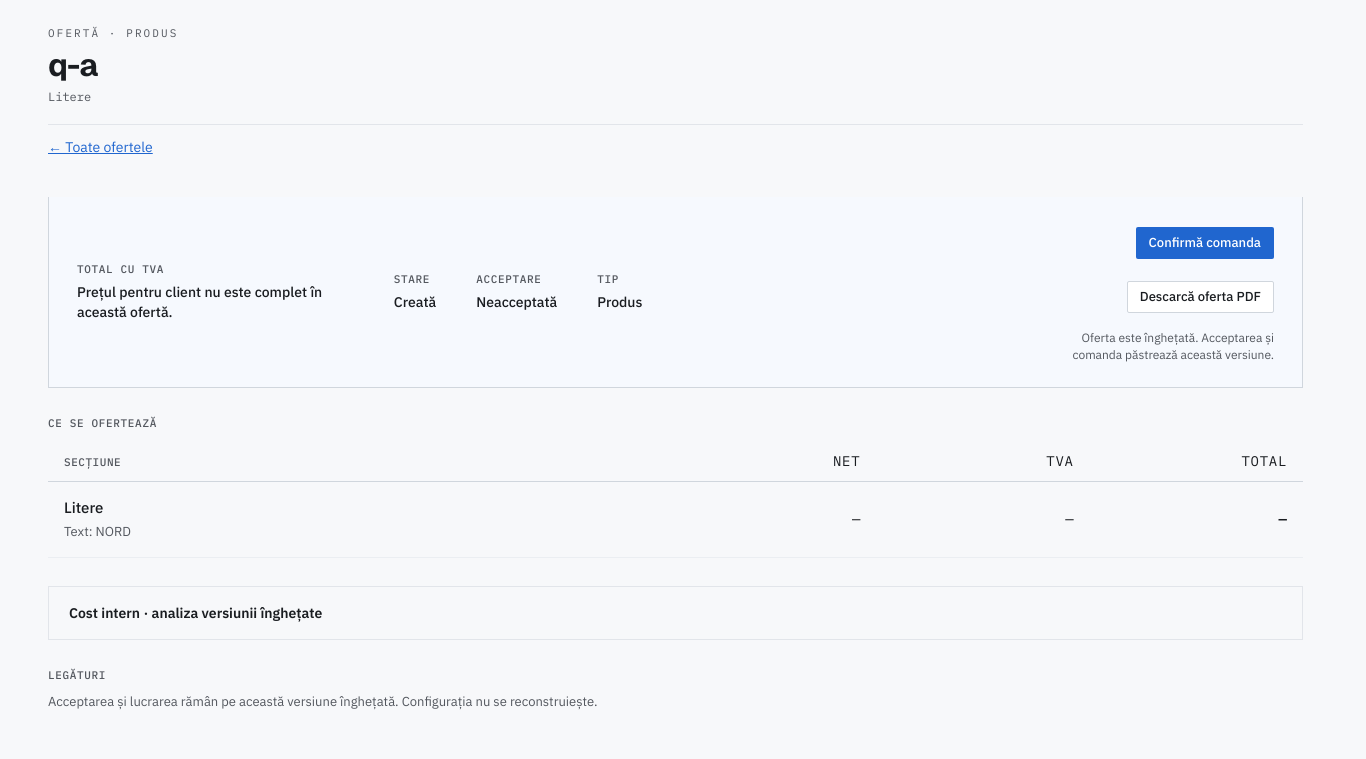
it: QuoteSnapshotPage › surfaces a blocked server document response without inventing a PDF
What coordinates should you click on to do the following:
click the button "Descarcă oferta PDF"
I would click on:
 (1200, 297)
Its box is [1127,275,1274,319].
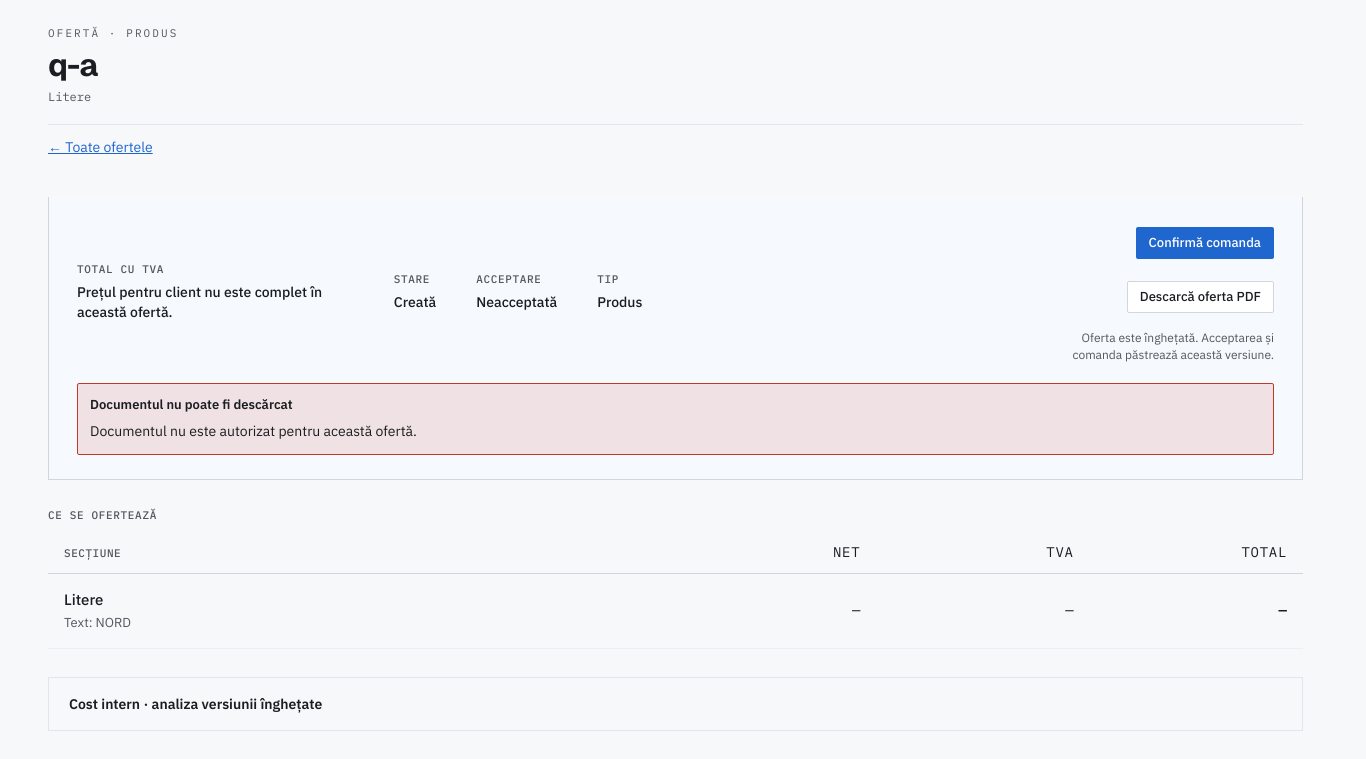
Expected: the text "Documentul nu este autorizat pentru această ofertă." is shown, [90,422,417,440]
